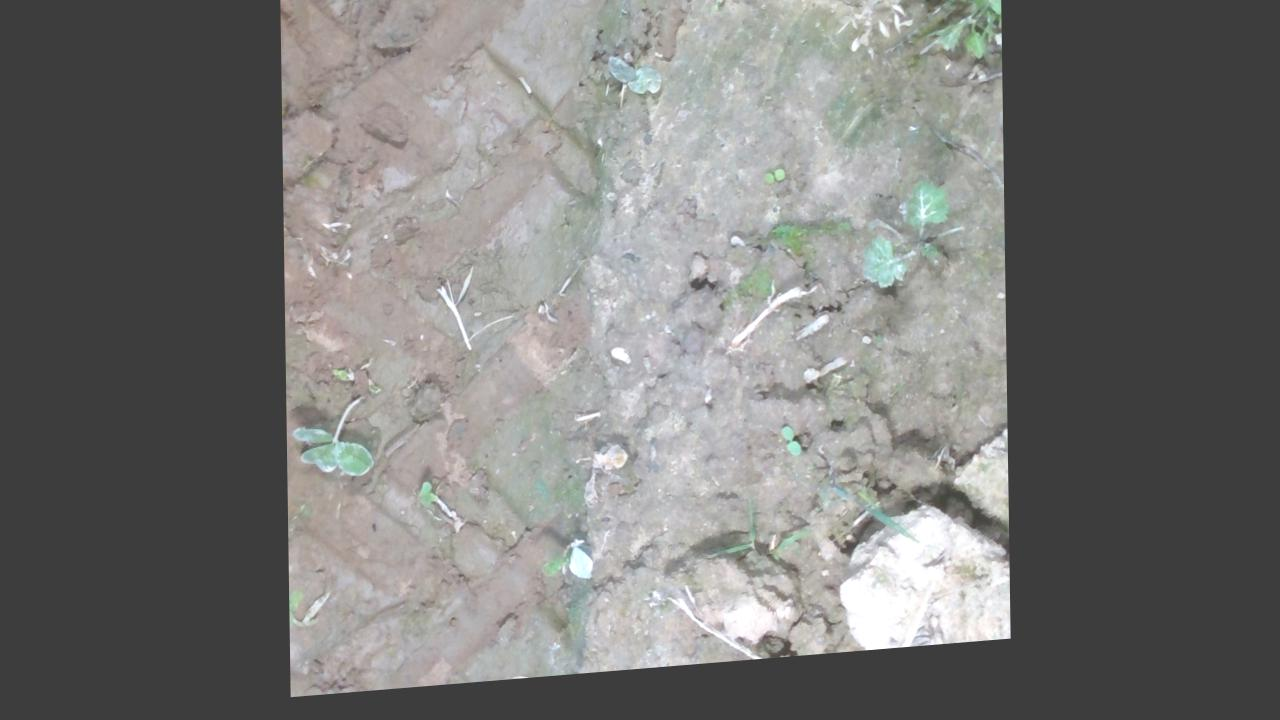weed: (777, 438, 800, 473), (758, 181, 785, 200)
